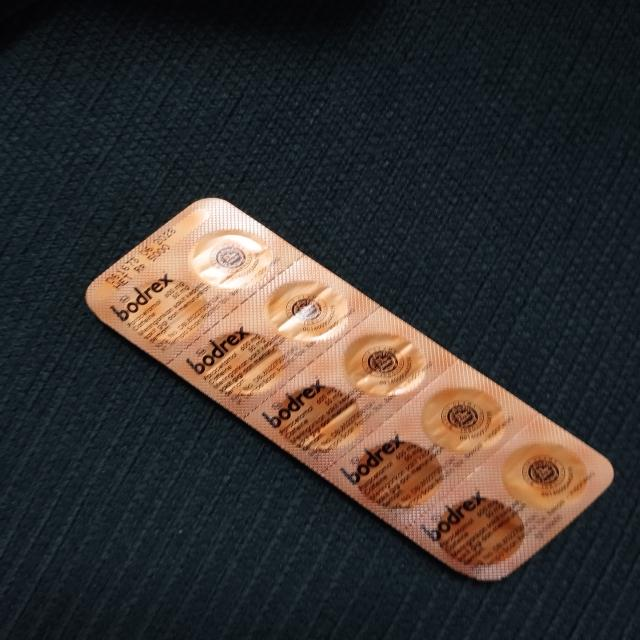B3: (88, 197, 610, 576)
